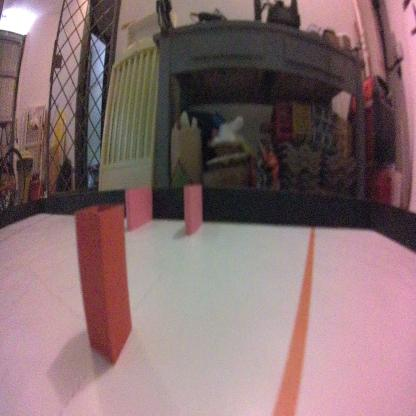magenta: (120, 182, 154, 228), (182, 179, 204, 242)
red: (72, 196, 134, 364)
